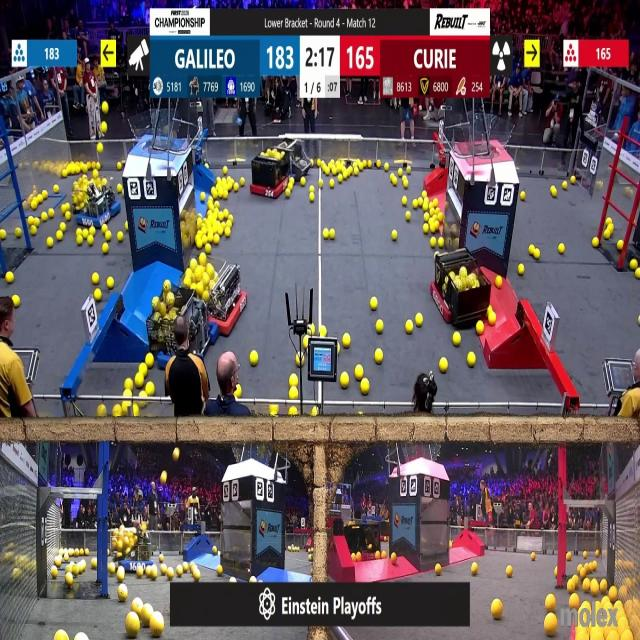ball_airborne: (100, 100, 108, 112), (173, 449, 180, 461), (162, 470, 168, 483), (102, 120, 108, 132), (98, 143, 103, 152)
ball_ground: (127, 616, 141, 638), (150, 616, 163, 638), (544, 616, 556, 638), (492, 600, 502, 619), (544, 594, 554, 612), (118, 586, 128, 603), (566, 580, 576, 594), (590, 582, 600, 596), (488, 310, 496, 326), (360, 380, 369, 394), (569, 595, 578, 609), (441, 357, 449, 372), (376, 349, 384, 364), (467, 352, 475, 367), (182, 566, 192, 578), (98, 406, 107, 419), (135, 376, 144, 389), (343, 335, 351, 349), (250, 351, 258, 365), (191, 566, 199, 580), (150, 566, 158, 580), (608, 588, 616, 602), (57, 630, 68, 640), (146, 353, 153, 368), (342, 374, 349, 389), (355, 365, 363, 378), (146, 383, 154, 396), (407, 321, 415, 334), (116, 568, 124, 581), (132, 599, 140, 612), (126, 379, 134, 391), (139, 362, 147, 374), (369, 296, 376, 309), (377, 320, 384, 333), (454, 334, 461, 347), (416, 314, 423, 327), (478, 321, 485, 334), (289, 376, 297, 387), (270, 407, 278, 418), (137, 567, 145, 578), (429, 221, 437, 232), (107, 278, 114, 290), (470, 563, 477, 575), (95, 288, 102, 300), (114, 406, 121, 418), (12, 294, 19, 306), (67, 572, 74, 584), (195, 237, 202, 249), (108, 562, 115, 574), (584, 581, 591, 593), (289, 388, 297, 398), (630, 261, 638, 271), (236, 385, 242, 398), (434, 564, 441, 575), (46, 238, 53, 249), (319, 325, 326, 336), (93, 274, 100, 285), (168, 568, 175, 579), (133, 406, 140, 417), (200, 253, 207, 264), (6, 273, 12, 285), (518, 265, 524, 277), (534, 248, 540, 260), (304, 338, 310, 350), (618, 241, 625, 251), (102, 244, 109, 254), (213, 236, 220, 246), (205, 244, 212, 254), (391, 231, 397, 242), (177, 566, 183, 577), (439, 238, 445, 249), (406, 212, 412, 223), (402, 177, 408, 188), (51, 567, 57, 578), (75, 634, 86, 640), (208, 234, 214, 245), (57, 233, 64, 242), (284, 188, 291, 197), (183, 278, 190, 287), (496, 276, 501, 288), (506, 566, 512, 576), (0, 231, 6, 241), (593, 238, 599, 248), (559, 244, 565, 254), (217, 565, 223, 575), (323, 230, 329, 240), (117, 233, 123, 243), (162, 565, 168, 575), (551, 186, 557, 196), (214, 200, 220, 210), (32, 200, 38, 210), (190, 258, 196, 268), (289, 410, 297, 417), (250, 575, 257, 583), (81, 230, 88, 238), (123, 390, 130, 398), (423, 201, 428, 212), (14, 230, 20, 239), (76, 237, 82, 246), (61, 222, 67, 231), (224, 230, 230, 239), (89, 237, 95, 246), (562, 181, 568, 190), (28, 216, 34, 225), (390, 554, 396, 563), (66, 212, 72, 221), (41, 212, 47, 221), (328, 179, 334, 188), (566, 553, 572, 562), (439, 213, 445, 222), (34, 217, 40, 226), (222, 210, 228, 219), (221, 189, 227, 198), (432, 200, 438, 209), (323, 166, 329, 175), (418, 199, 424, 208), (42, 189, 48, 198), (329, 230, 334, 240), (430, 238, 435, 248), (31, 225, 36, 235), (529, 246, 534, 256), (424, 212, 429, 222), (48, 209, 53, 219), (208, 200, 213, 210), (115, 164, 122, 171), (115, 185, 122, 192), (401, 198, 407, 206), (604, 232, 610, 240), (530, 553, 536, 561), (413, 200, 419, 208), (312, 410, 318, 418), (212, 545, 218, 553), (318, 180, 324, 188), (376, 552, 382, 560), (407, 168, 413, 176), (234, 183, 240, 191), (338, 175, 344, 183), (140, 389, 146, 397), (225, 218, 231, 226), (308, 184, 314, 192), (397, 170, 403, 178), (122, 400, 128, 408), (93, 560, 98, 569), (424, 223, 429, 232), (521, 190, 526, 199), (308, 194, 313, 203), (106, 233, 111, 242), (391, 176, 396, 185), (354, 168, 359, 177), (384, 164, 389, 173), (212, 186, 217, 195), (331, 167, 336, 176), (218, 211, 223, 220), (90, 227, 96, 234), (55, 185, 61, 192), (606, 217, 612, 224), (299, 178, 304, 186), (123, 222, 128, 230), (570, 176, 575, 184), (352, 554, 357, 562), (636, 270, 640, 280), (241, 178, 246, 186), (289, 177, 294, 185), (65, 204, 70, 212), (202, 191, 206, 200), (555, 567, 559, 576), (295, 357, 299, 366), (231, 576, 237, 582), (68, 594, 74, 600), (222, 168, 227, 175), (366, 162, 371, 169), (161, 555, 165, 563), (216, 176, 220, 184), (208, 210, 212, 218), (101, 224, 105, 231), (378, 162, 382, 169), (596, 551, 600, 558), (449, 540, 453, 547), (309, 556, 313, 562)
goal: (460, 118, 517, 158), (129, 116, 186, 152)
robot_blue: (74, 176, 122, 228), (148, 296, 178, 372), (110, 526, 157, 574)
robot_red: (182, 257, 247, 335), (431, 250, 485, 325), (252, 147, 293, 199), (346, 518, 383, 559), (0, 284, 15, 344)
